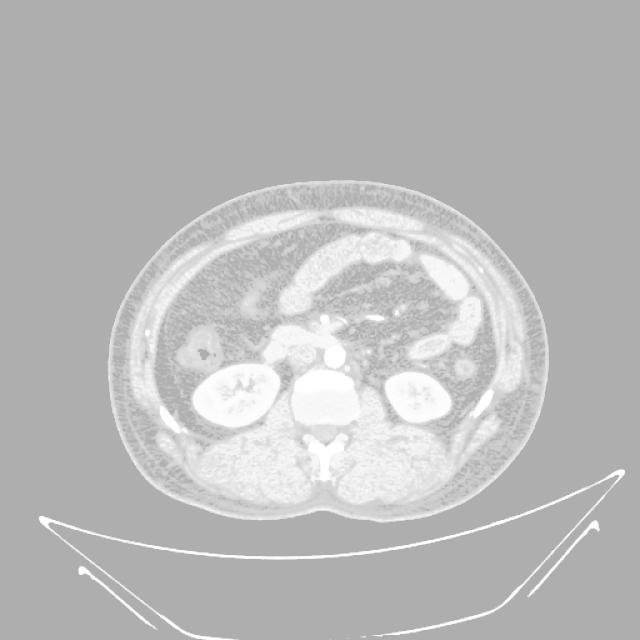NORMAL: (104, 175, 556, 528)
